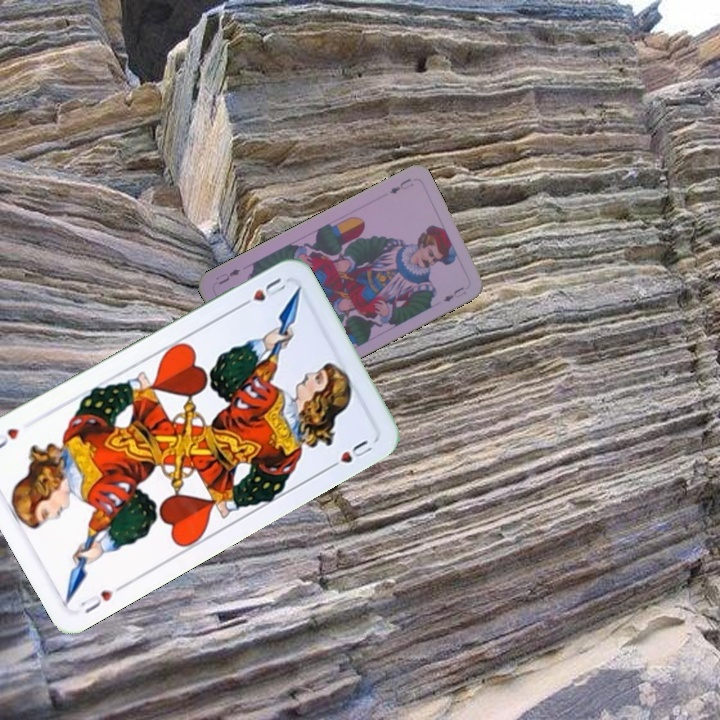EU: (386, 174, 413, 197)
HU: (234, 274, 290, 311), (75, 586, 116, 617)
